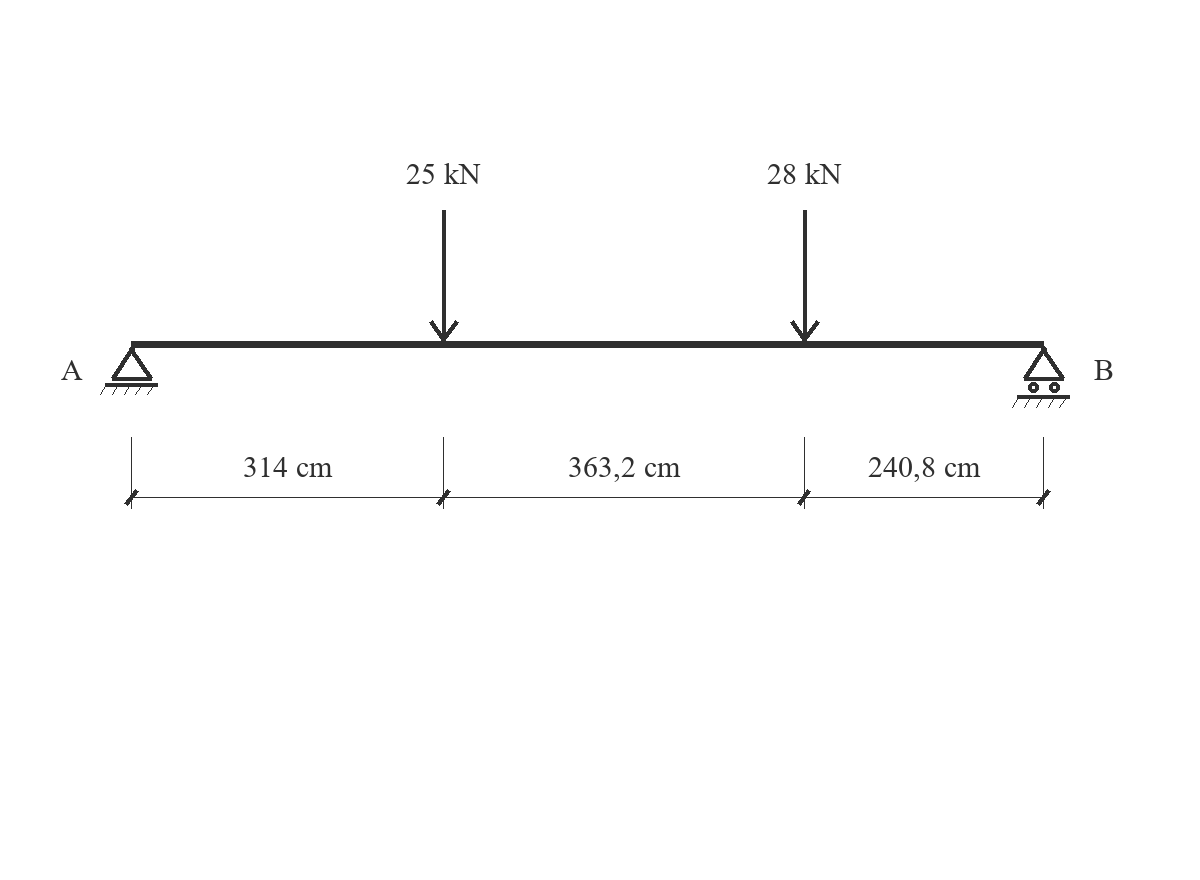pin_support: (100, 346, 158, 395)
point_load: (429, 210, 459, 342), (790, 210, 820, 342)
roller_support: (1012, 346, 1070, 408)
